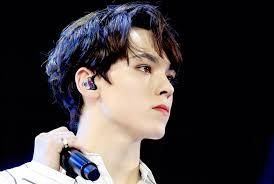earphone: (80, 77, 98, 92)
